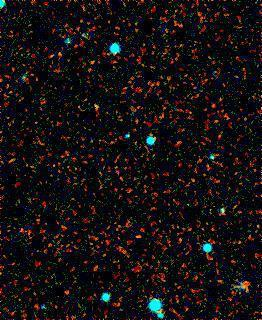star: (81, 92, 111, 122)
